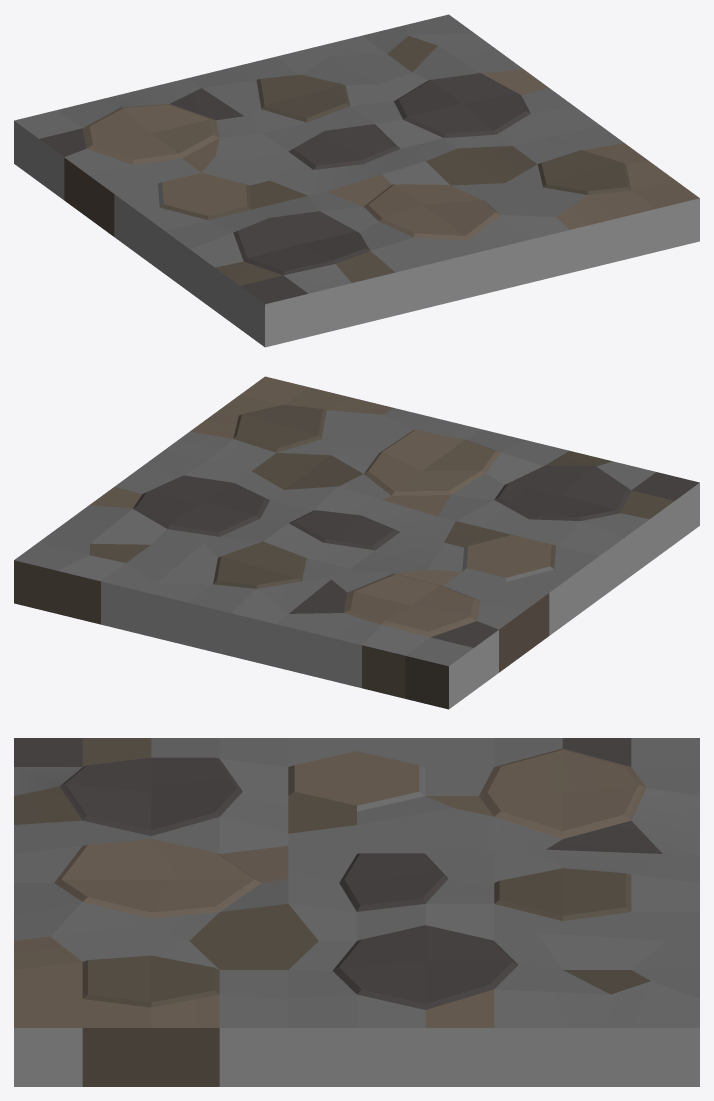
The model's file is piso.fbx.
The picture shows the model from 3 angles, top to bottom: view 1: azimuth 30°, elevation 25°; view 2: azimuth 150°, elevation 25°; view 3: azimuth 270°, elevation 25°; orthographic projection. The views are drawn at different scales.
Visible parts, largest first — view 1: pCube56; view 2: pCube56; view 3: pCube56.
Boxes of the visible parts, box(x1,y1,x2,y2) form: pCube56: box(14, 14, 699, 347); pCube56: box(14, 376, 699, 709); pCube56: box(14, 738, 699, 1086).
Size of the model in its own units: 115 by 13.28 by 115.
